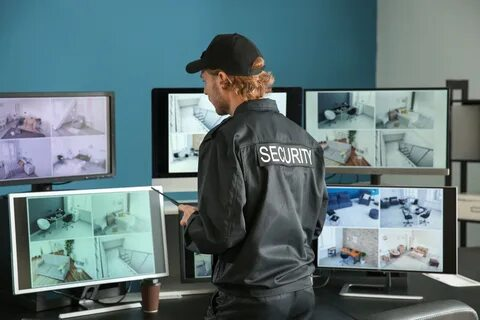awake: (176, 32, 331, 319)
